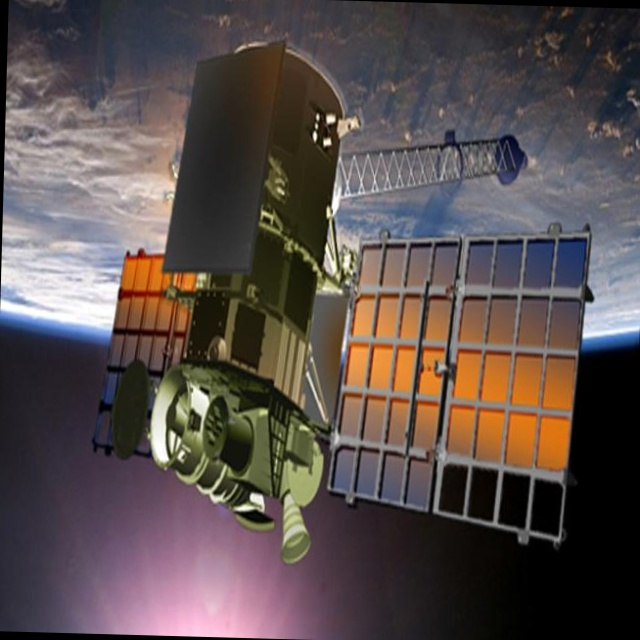medium_debris: (66, 24, 604, 563)
